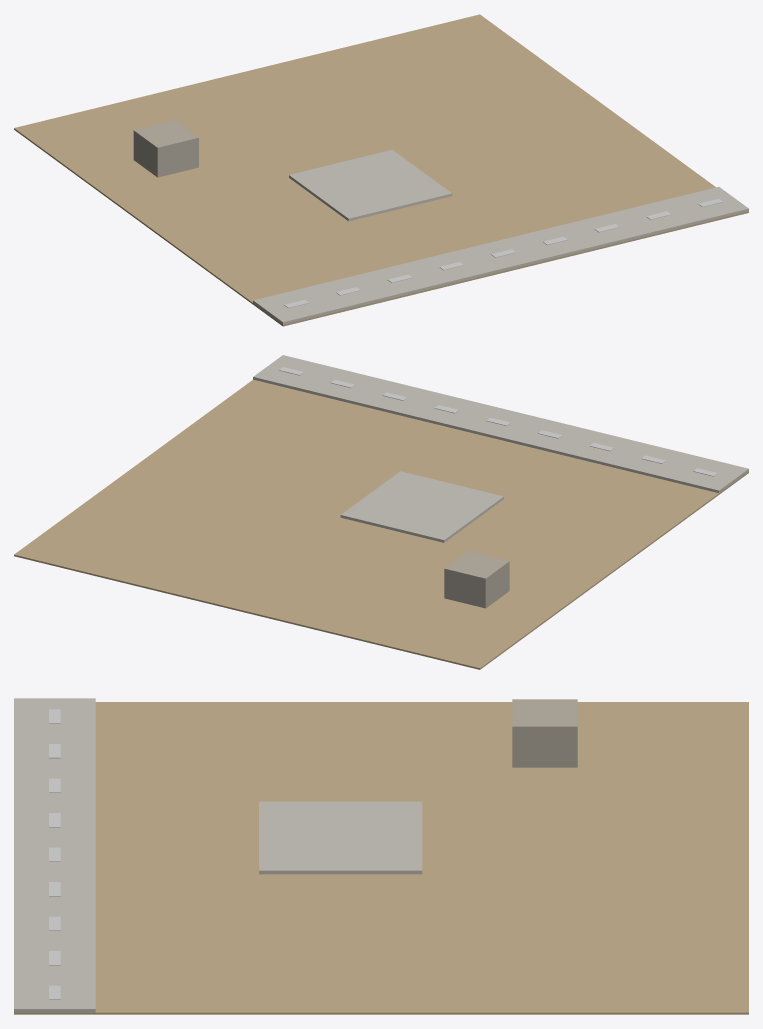
Rendered from stage_02.glb.
3 views of the same model, one above another, from view 1: azimuth 30°, elevation 25°; view 2: azimuth 150°, elevation 25°; view 3: azimuth 270°, elevation 25° (orthographic). The views are drawn at different scales.
Parts seen in each view (by area): view 1: geometry_0; view 2: geometry_0; view 3: geometry_0.
Part boxes in pixels (x1=…): geometry_0: x1=14, y1=14, x2=748, y2=326; geometry_0: x1=14, y1=355, x2=748, y2=669; geometry_0: x1=14, y1=698, x2=748, y2=1014.
Bounding box in the file's own units: 9 × 0.58 × 9.
